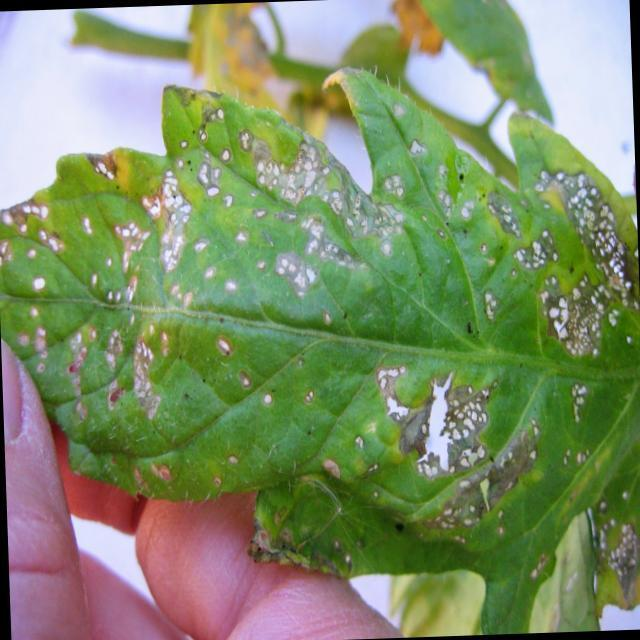Septoria: (16, 85, 640, 582)
